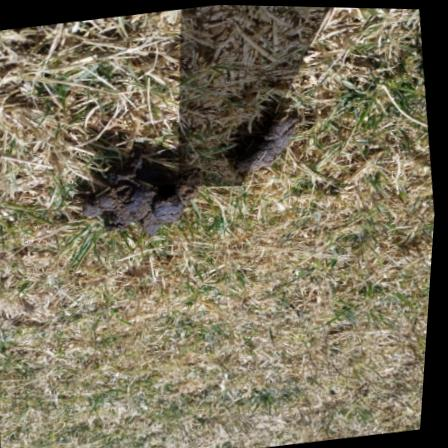dog-poop: (68, 152, 198, 245), (226, 108, 304, 178)
